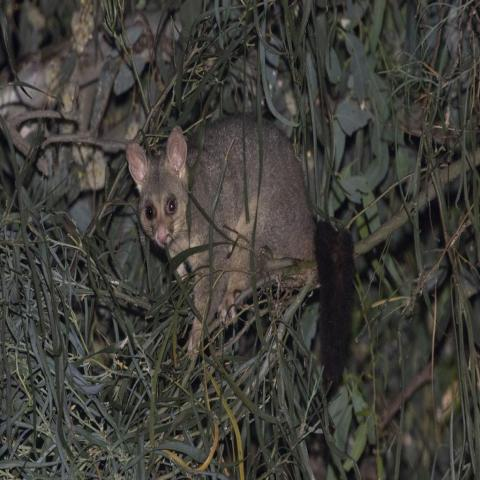small_animal: (123, 112, 357, 390)
